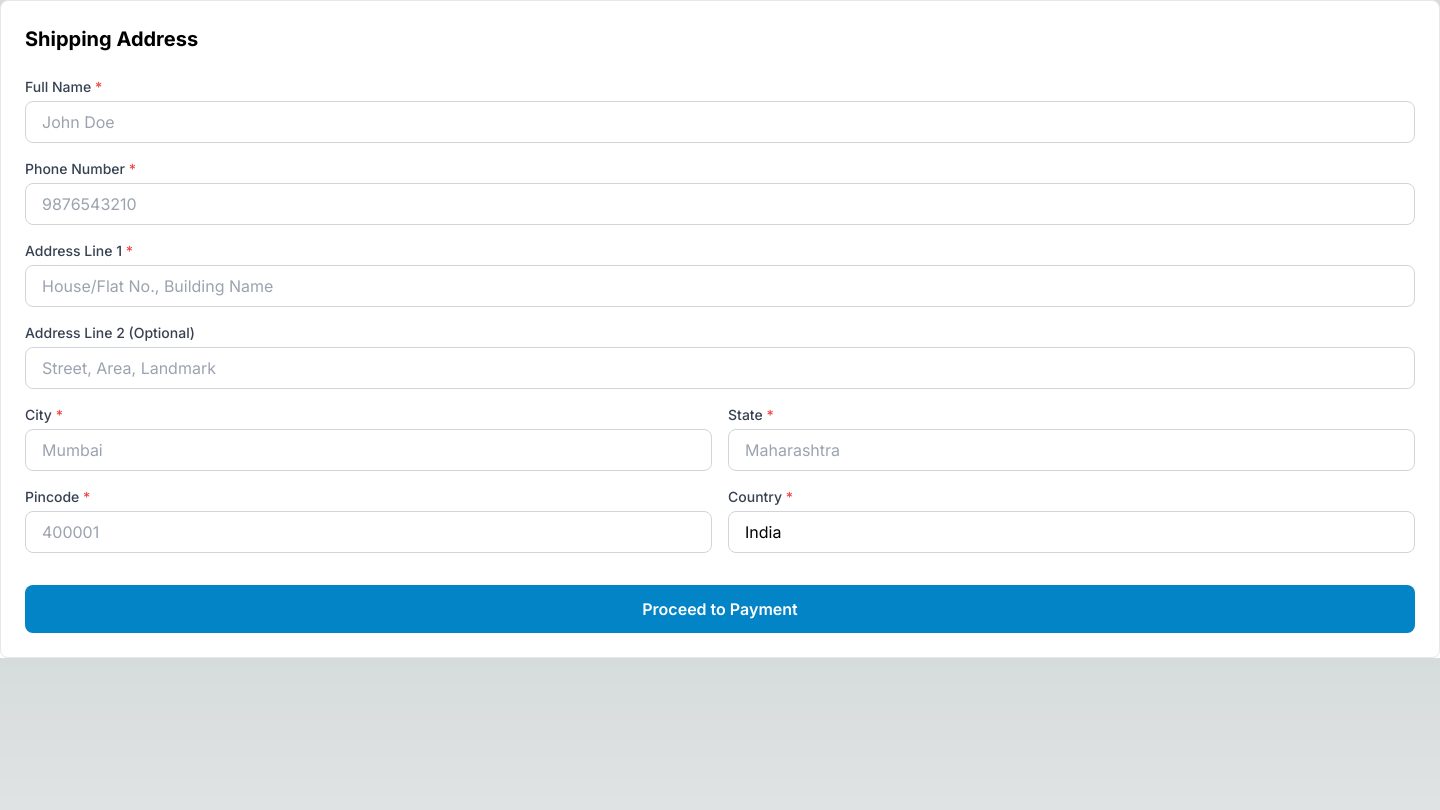
CheckoutForm › validates required fields
The image size is (1440, 810).
What coordinates should you click on to do the following:
click the button "Proceed to Payment"
I would click on:
 (720, 609)
Its box is [25, 585, 1415, 633].
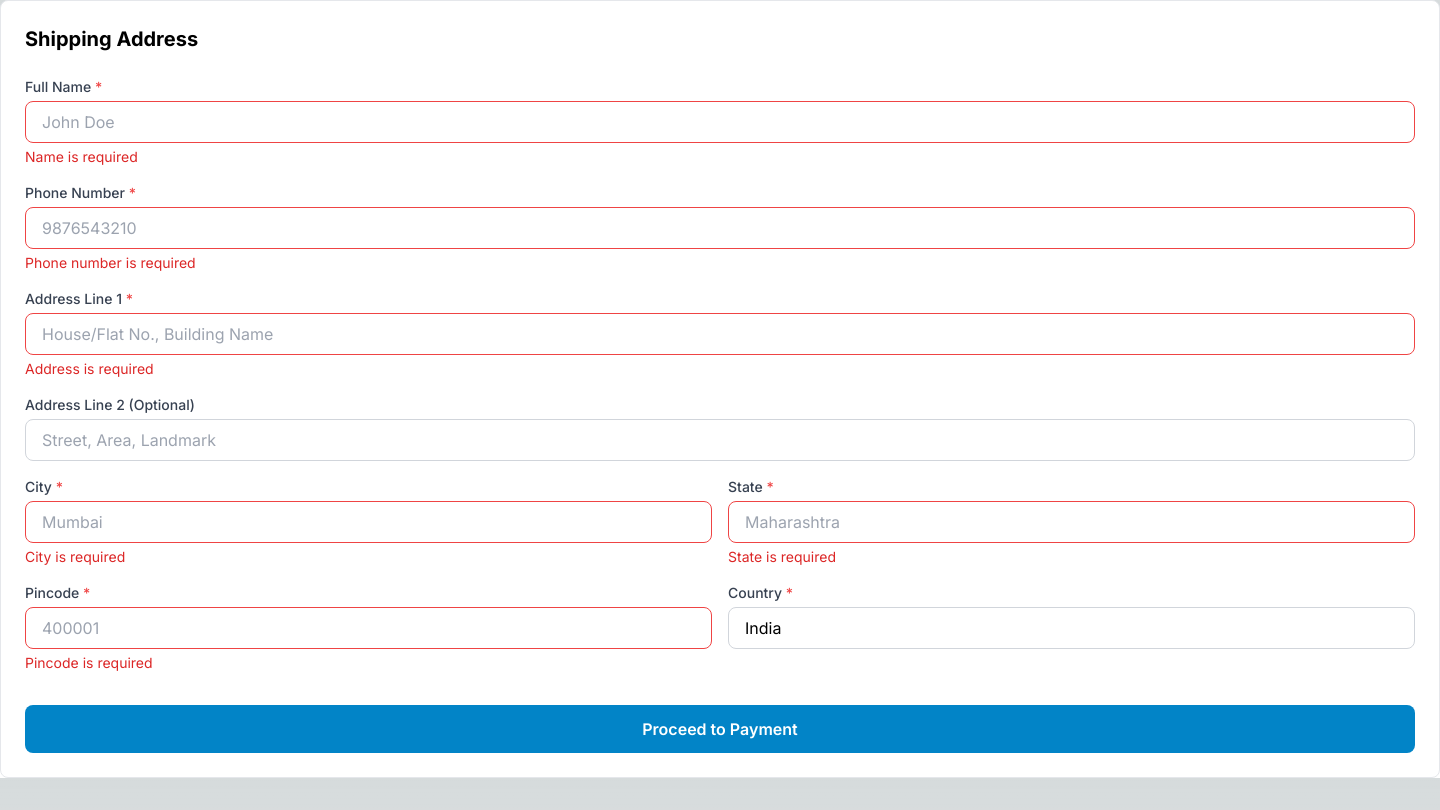
Expected: the text "Name is required" is shown, [25, 148, 138, 165]
Expected: the text "Phone number is required" is shown, [25, 254, 196, 271]
Expected: the text "Address is required" is shown, [25, 360, 154, 377]
